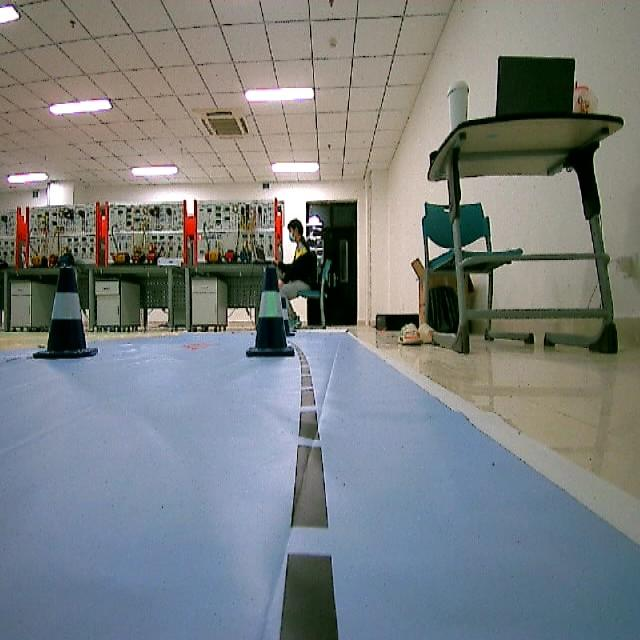obstacle: (38, 260, 94, 364), (246, 264, 292, 360)
